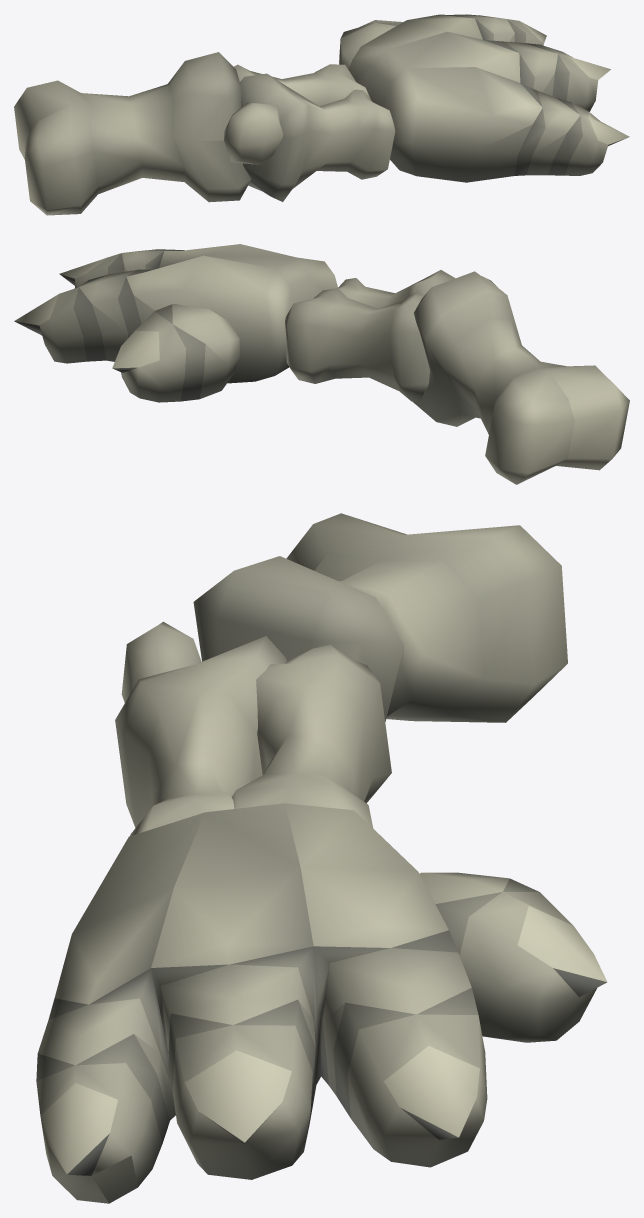
File: deco_skeleton_arm_2.fbx
The picture shows the model from 3 angles, top to bottom: view 1: azimuth 30°, elevation 25°; view 2: azimuth 150°, elevation 25°; view 3: azimuth 270°, elevation 25°; orthographic projection. The views are drawn at different scales.
Visible parts, largest first — view 1: deco_skeleton_arm_2; view 2: deco_skeleton_arm_2; view 3: deco_skeleton_arm_2.
Boxes of the visible parts, box(x1,y1,x2,y2) form: deco_skeleton_arm_2: box(14, 14, 629, 215); deco_skeleton_arm_2: box(14, 244, 629, 484); deco_skeleton_arm_2: box(36, 513, 607, 1203).
Size of the model in its own units: 100 by 26.44 by 44.45.
